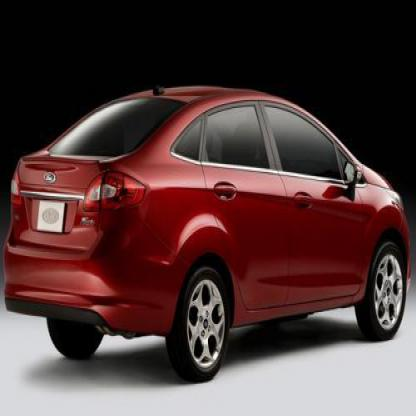car: (3, 80, 415, 385)
